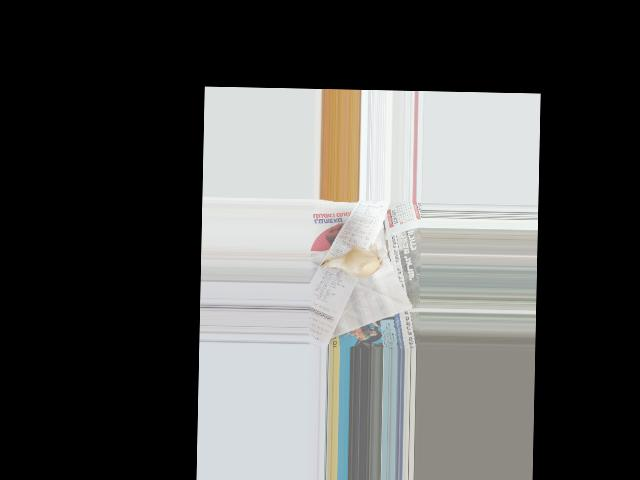onion: (335, 248, 379, 277)
